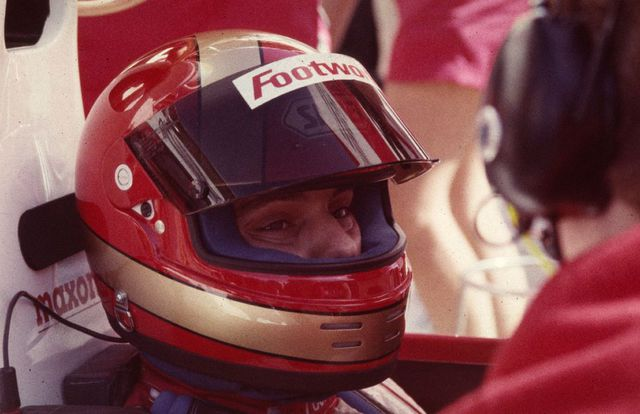helmet: (72, 42, 419, 379)
